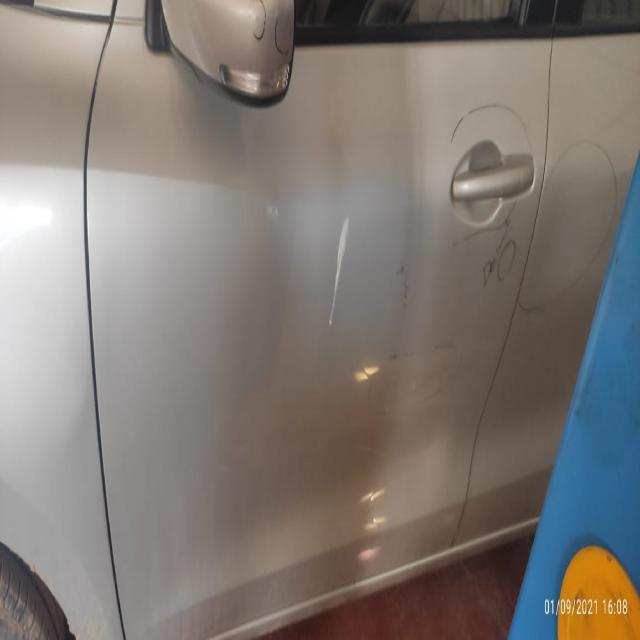doorouter-dent: (146, 48, 472, 586)
